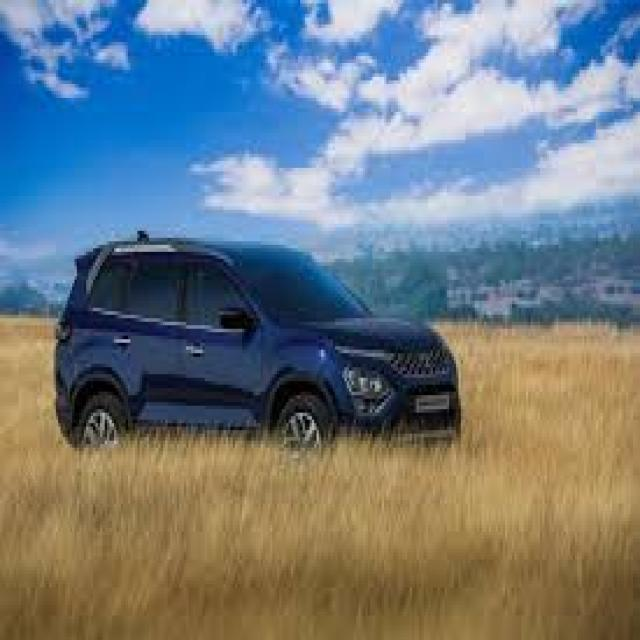cars: (51, 217, 470, 484)
